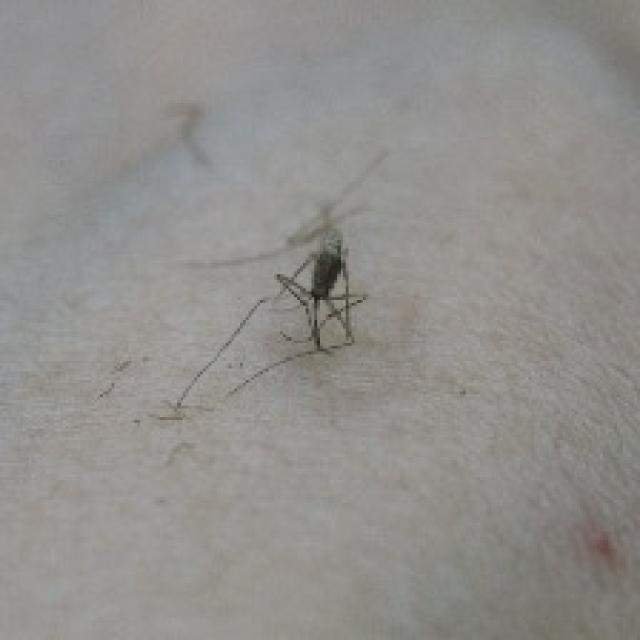culex: (170, 161, 440, 419)
